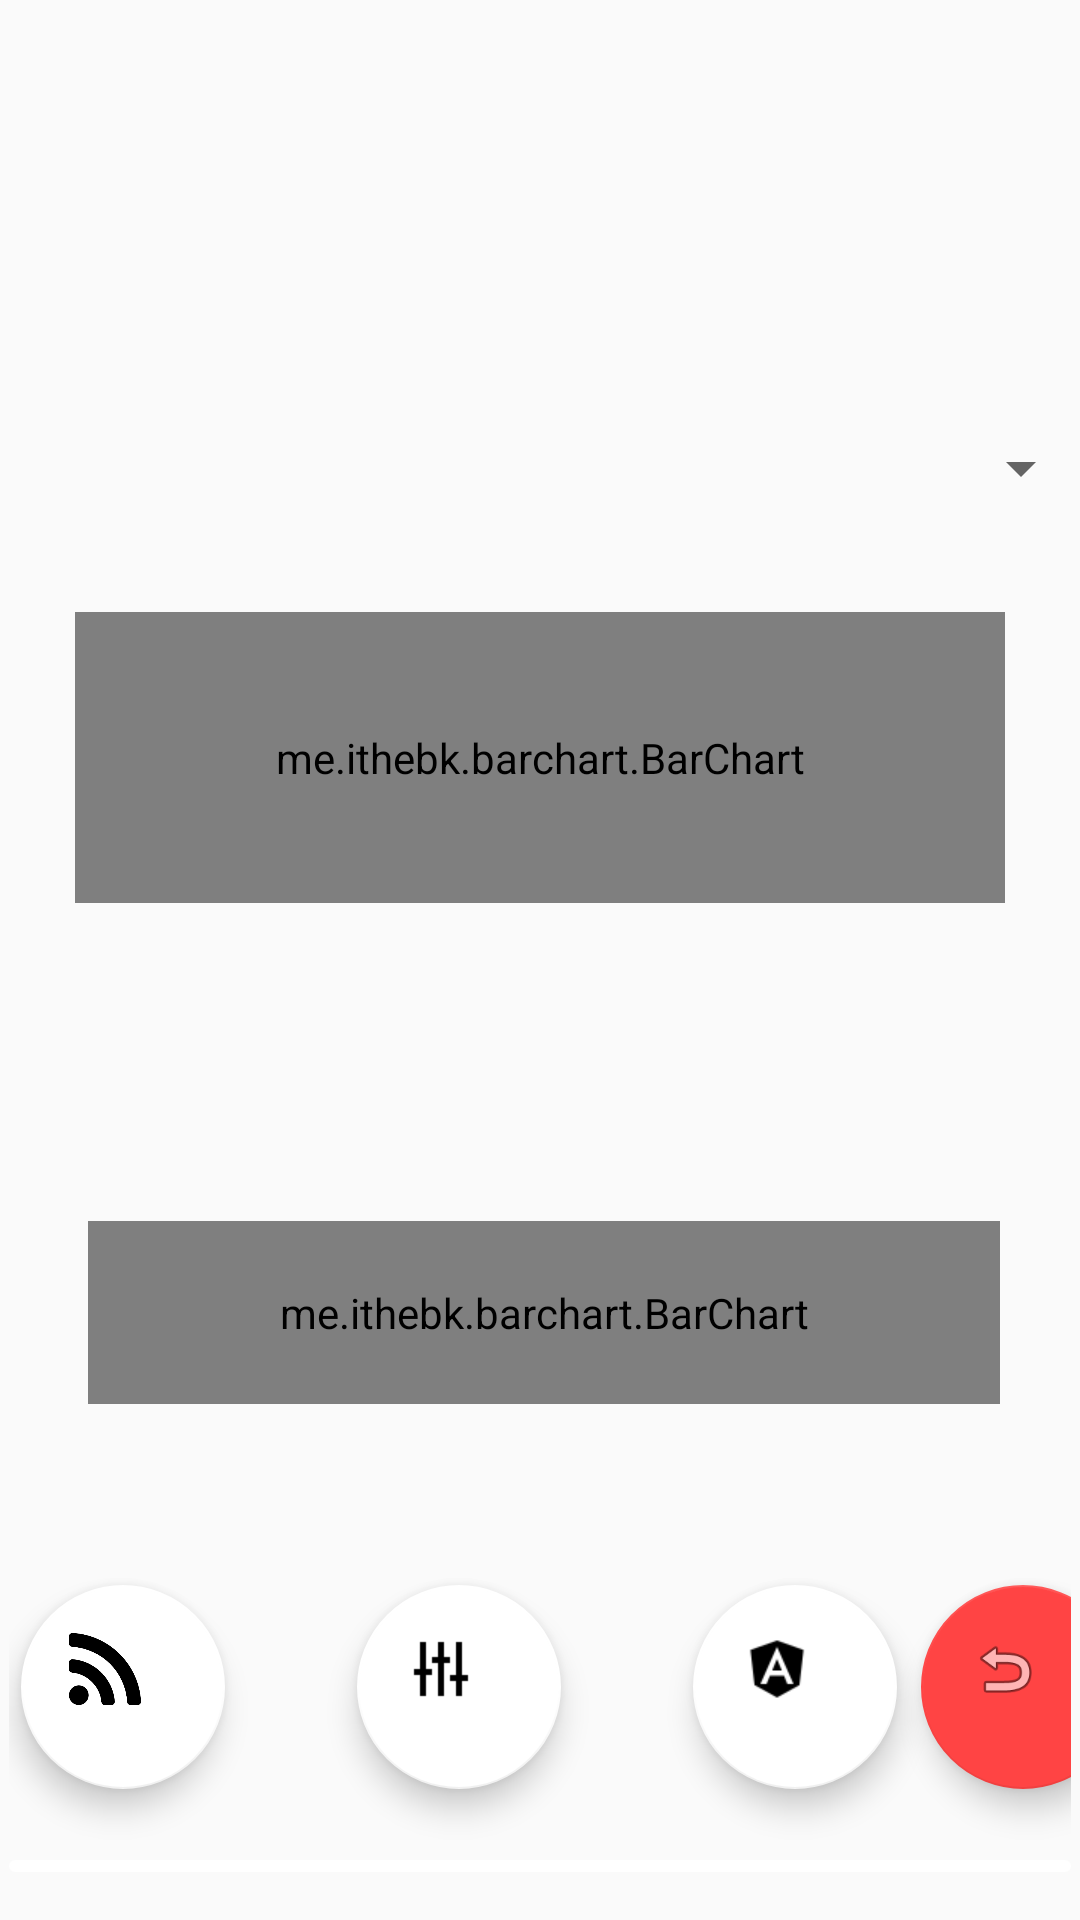

Icons on this 1080 x 1920 Android screen, each with the point to tap as point (x, y):
tunetest: point (459, 1715)
